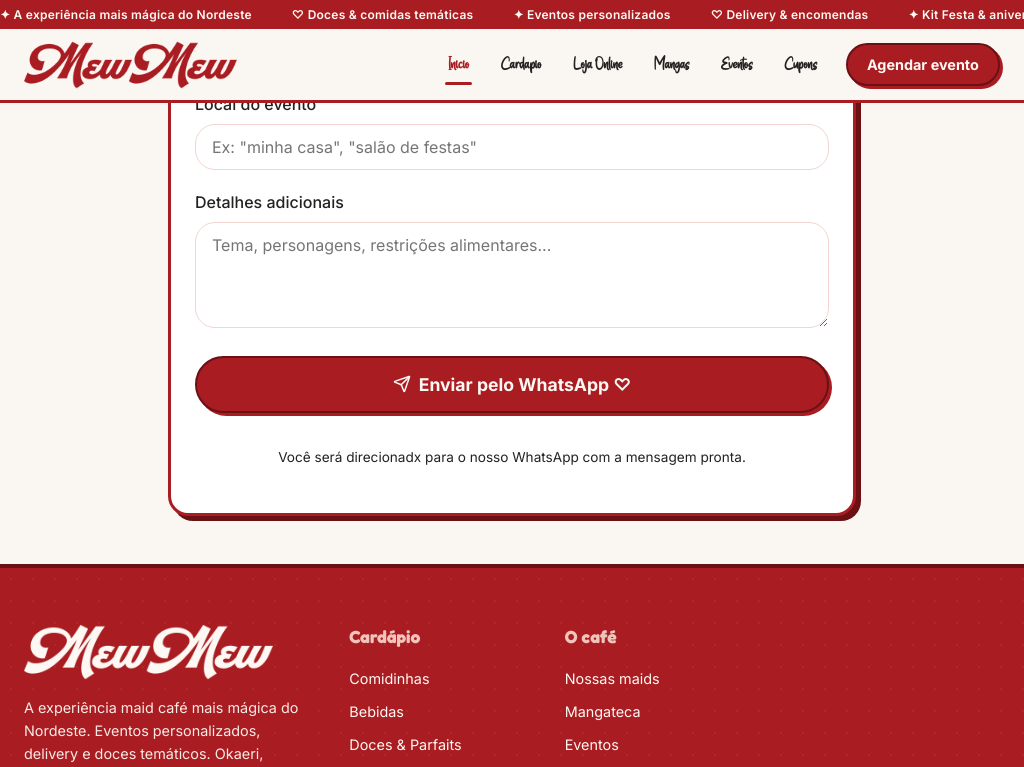
Scenario: Página de Agendamento › não deve enviar e deve mostrar erros se os obrigatórios faltarem
(page scrolled)
Click the button "Enviar pelo WhatsApp ♡" at (512,384), box [195, 356, 829, 413]
(page scrolled)
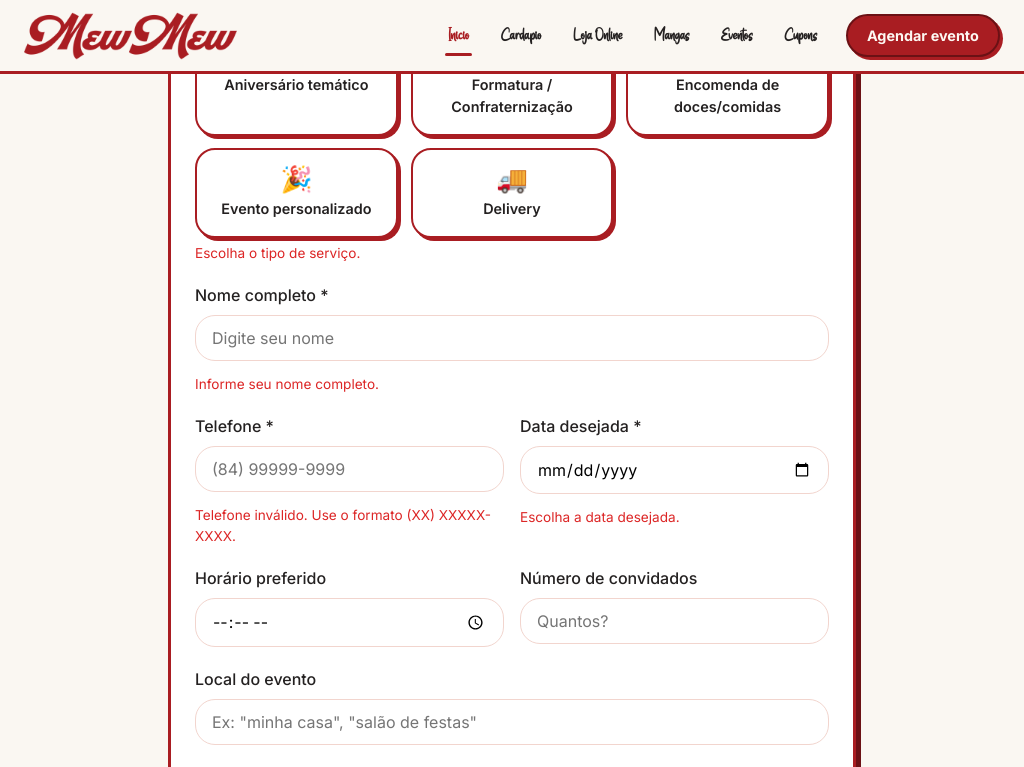
Result: the text "Escolha o tipo de serviço." is shown at [195, 245, 360, 261]
Result: the text "Informe seu nome completo." is shown at [195, 376, 379, 392]
